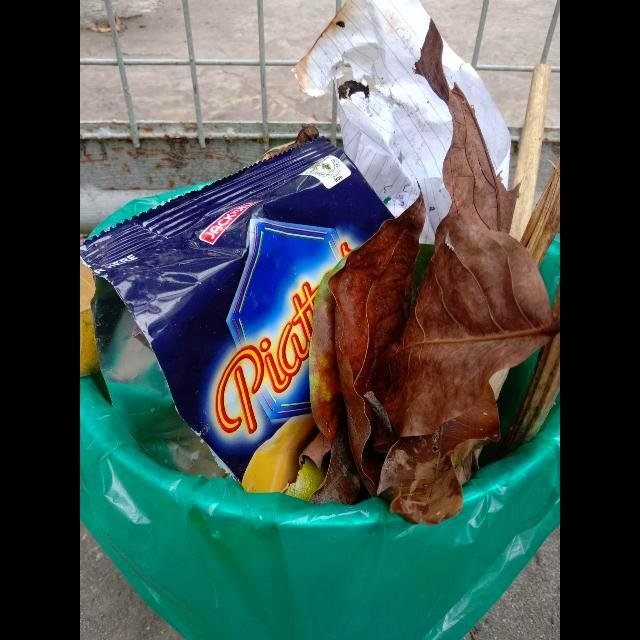food_wrapper: (80, 136, 394, 493)
paper: (295, 0, 514, 242)
